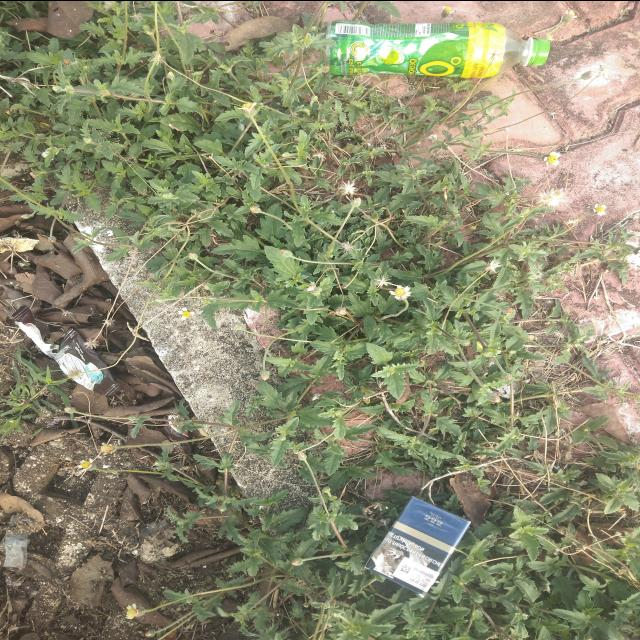Clear plastic bottle: (324, 18, 550, 78)
Other carton: (364, 495, 471, 597)
Other plastic: (12, 303, 121, 395), (162, 412, 194, 454)
Plastic bottle cap: (531, 37, 550, 65)
Plastic film: (0, 513, 31, 566)
